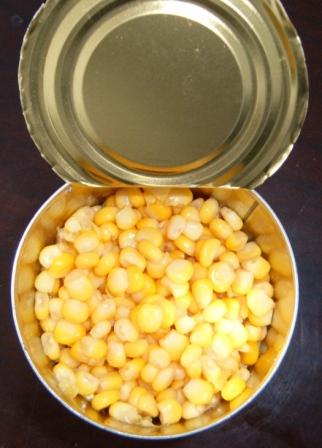corn: (32, 185, 277, 426)
